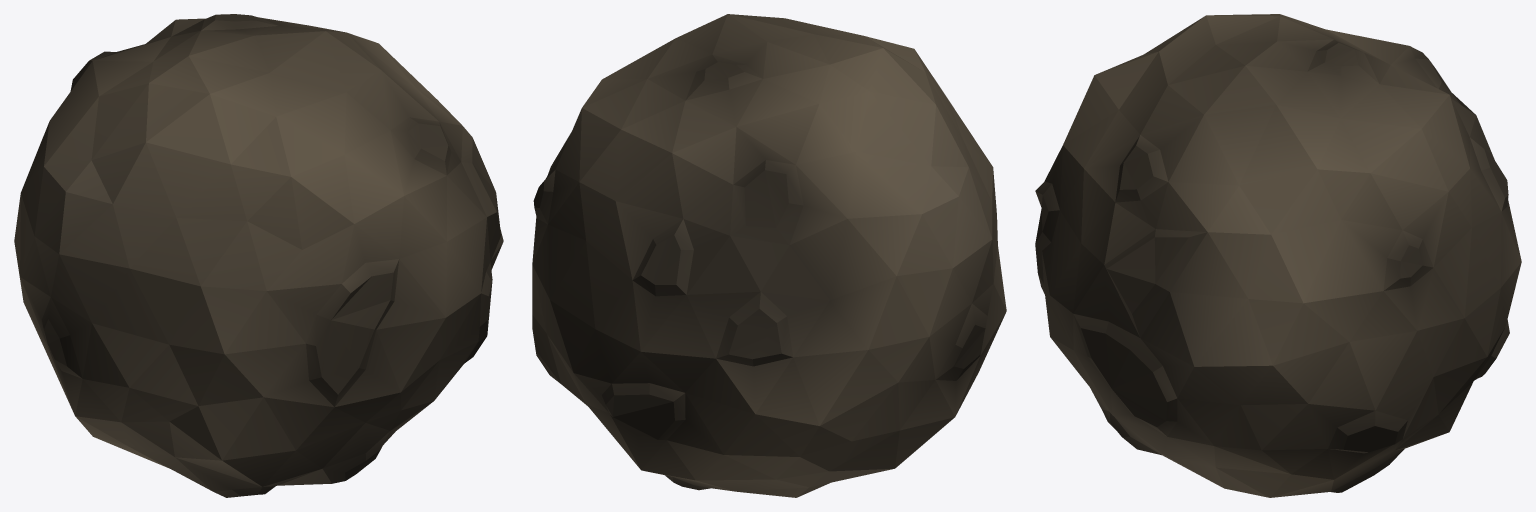
The model's file is Venus.fbx.
The picture shows the model from 3 angles, left to right: view 1: azimuth 30°, elevation 25°; view 2: azimuth 150°, elevation 25°; view 3: azimuth 270°, elevation 25°; orthographic projection.
Parts seen in each view (by area): view 1: Venus; view 2: Venus; view 3: Venus.
Part boxes in pixels (bbox=[...]): Venus: bbox=[14, 14, 503, 497]; Venus: bbox=[532, 14, 1006, 497]; Venus: bbox=[1035, 14, 1521, 497].
Size of the model in its own units: 10.12 by 9.95 by 10.17.
